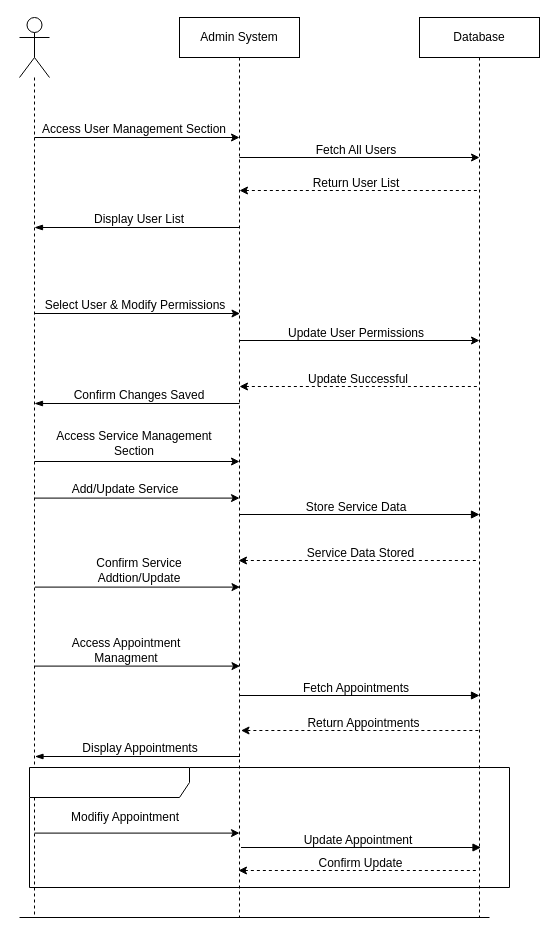
Some shapes in this 557 by 936 pixel diagram are drawn without their labels. Here are the shapes that lost their labels. From the top down, the centre of each, then its label:
pixel 34 47: Admin
pixel 269 827: Diagram Heading
